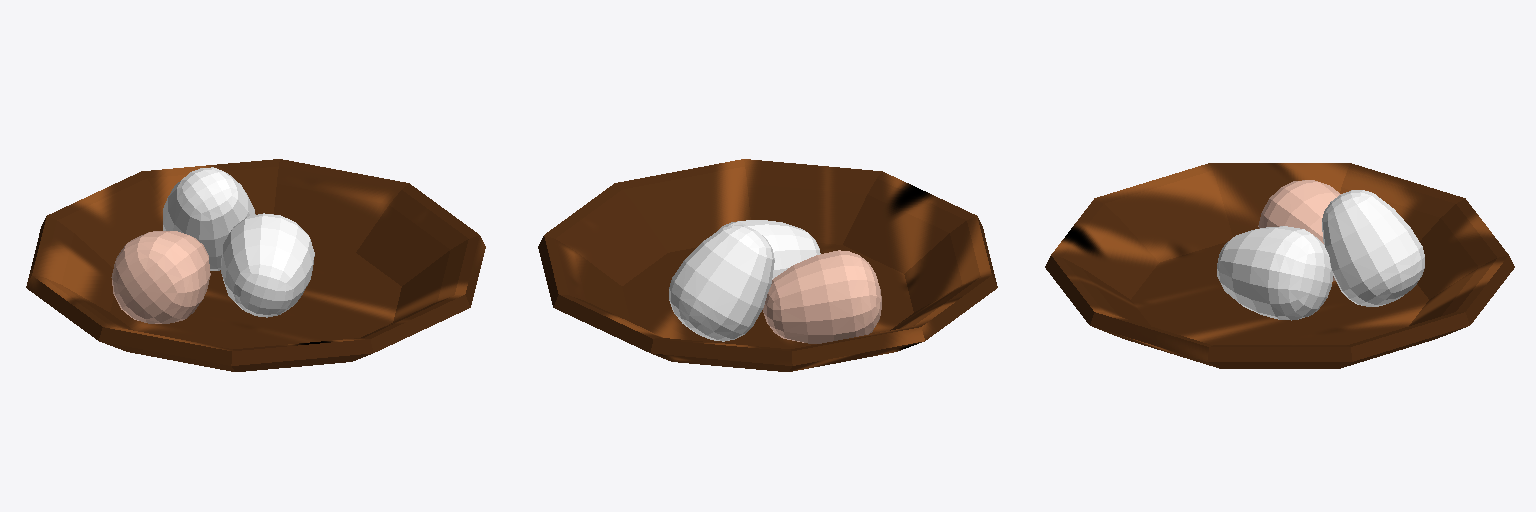
The picture shows the model from 3 angles: view 1: azimuth 30°, elevation 25°; view 2: azimuth 150°, elevation 25°; view 3: azimuth 270°, elevation 25°; orthographic projection.
Parts seen in each view (by area): view 1: Egg_Whole_Cube.001; view 2: Egg_Whole_Cube.001; view 3: Egg_Whole_Cube.001.
Boxes of the visible parts, <box> form: Egg_Whole_Cube.001: <box>26,159,485,371</box>; Egg_Whole_Cube.001: <box>538,159,997,371</box>; Egg_Whole_Cube.001: <box>1045,163,1514,368</box>.
Bounding box in the file's own units: 1.74 × 0.5022 × 1.83.
Materials: 1 (1 with a texture image).